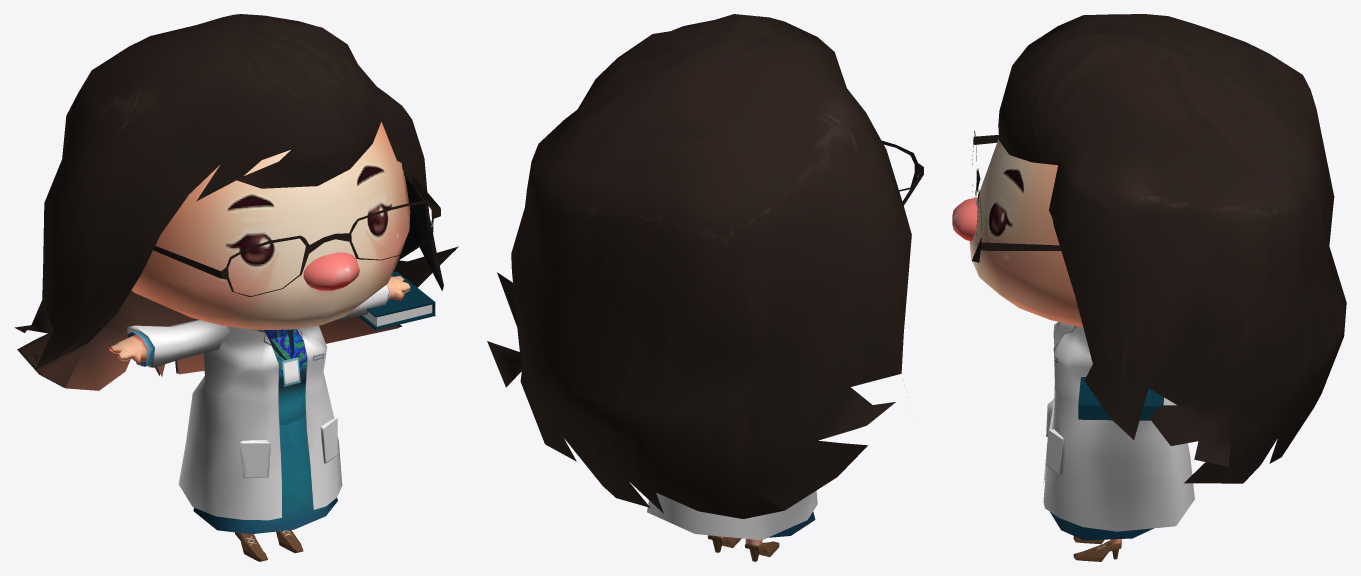
Rendered from Char_Sponsor_Female_CMC.fbx.
3 renders of one model, left to right at view 1: azimuth 30°, elevation 25°; view 2: azimuth 150°, elevation 25°; view 3: azimuth 270°, elevation 25°, orthographic. The views are drawn at different scales.
Parts seen in each view (by area): view 1: hair, Face_Male, Coat_Doctor_Female, sponsor_9_Female_YoungMode_2:sponsor_9_Female_YoungMode_2:po, Left_Arm_Cook_Female1, glasses, sponsor_9_Female_YoungMode_2:sponsor_9_Female_YoungMode_2:bo, Tx_Interior_Education_Computing_20170703:layer2_bake, pSphere1, Left_Arm_Cook_Female, tag; view 2: hair, Coat_Doctor_Female; view 3: hair, Coat_Doctor_Female, Face_Male, Tx_Interior_Education_Computing_20170703:layer2_bake, glasses, sponsor_9_Female_YoungMode_2:sponsor_9_Female_YoungMode_2:po, pSphere1, L_leg2.
Boxes of the visible parts, x1,y1,x2,y2 form: hair: [14, 14, 458, 390]; Face_Male: [131, 121, 410, 329]; Coat_Doctor_Female: [178, 325, 342, 520]; sponsor_9_Female_YoungMode_2:sponsor_9_Female_YoungMode_2:po: [193, 413, 337, 534]; Left_Arm_Cook_Female1: [109, 319, 229, 367]; glasses: [153, 171, 440, 296]; sponsor_9_Female_YoungMode_2:sponsor_9_Female_YoungMode_2:bo: [265, 329, 306, 424]; Tx_Interior_Education_Computing_20170703:layer2_bake: [359, 271, 435, 329]; pSphere1: [303, 252, 359, 290]; Left_Arm_Cook_Female: [328, 276, 410, 322]; tag: [264, 329, 300, 386]; hair: [487, 14, 911, 518]; Coat_Doctor_Female: [647, 490, 817, 540]; hair: [998, 14, 1346, 483]; Coat_Doctor_Female: [1043, 322, 1194, 531]; Face_Male: [969, 139, 1083, 327]; Tx_Interior_Education_Computing_20170703:layer2_bake: [1078, 377, 1163, 420]; glasses: [972, 130, 1062, 262]; sponsor_9_Female_YoungMode_2:sponsor_9_Female_YoungMode_2:po: [1050, 512, 1153, 540]; pSphere1: [952, 197, 977, 241]; L_leg2: [1073, 539, 1121, 561].
Size of the model in its own units: 6.03 by 7.06 by 4.88.
2 materials, 2 textured.
